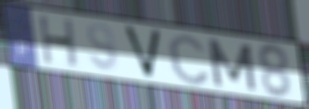8: (256, 42, 295, 100)
9: (84, 23, 121, 73)
C: (165, 32, 213, 88)
H: (37, 14, 80, 71)
M: (204, 36, 260, 94)
V: (120, 23, 165, 82)
